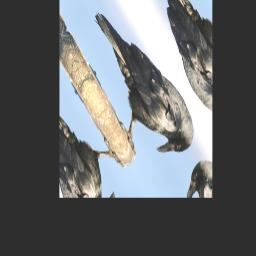Crow: (65, 0, 203, 189)
